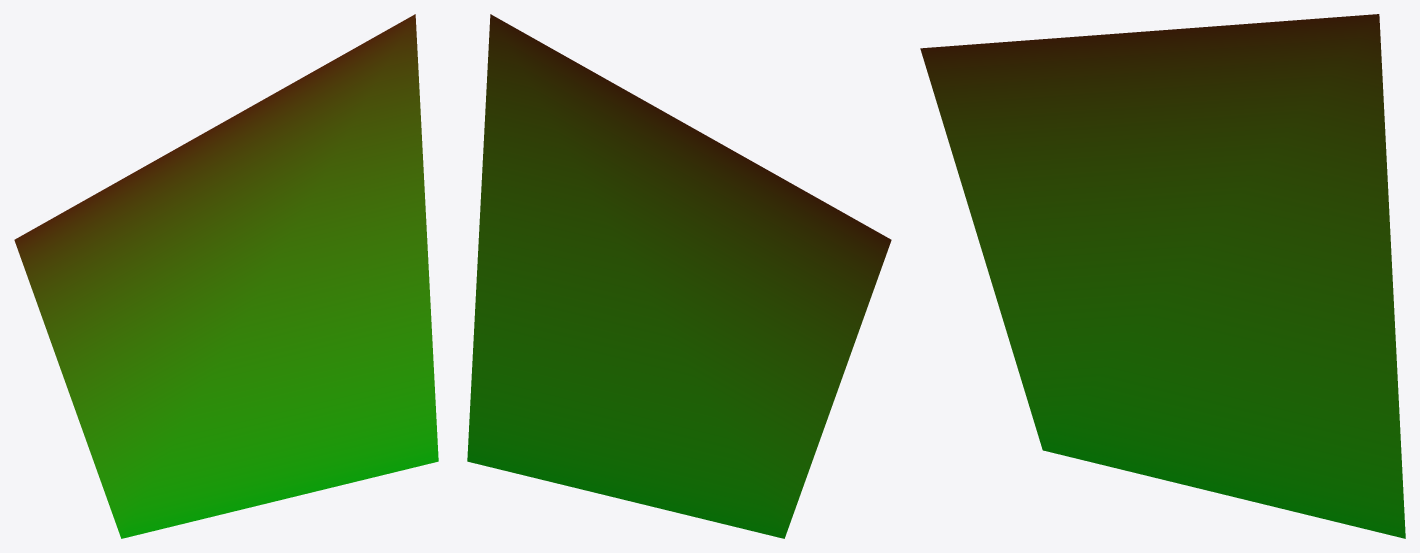
Rendered from Seaweed_LOD3_Var2_sdpjN.fbx.
3 views of the same model, side by side, from view 1: azimuth 30°, elevation 25°; view 2: azimuth 150°, elevation 25°; view 3: azimuth 330°, elevation 25° (orthographic). The views are drawn at different scales.
Parts seen in each view (by area): view 1: _c237_Var2_LOD3; view 2: _c237_Var2_LOD3; view 3: _c237_Var2_LOD3.
Boxes of the visible parts, box(x1,y1,x2,y2) form: _c237_Var2_LOD3: box(14, 14, 438, 538); _c237_Var2_LOD3: box(467, 14, 891, 538); _c237_Var2_LOD3: box(920, 14, 1405, 538).
Bounding box in the file's own units: 21.28 × 21.71 × 4.29e-06.
